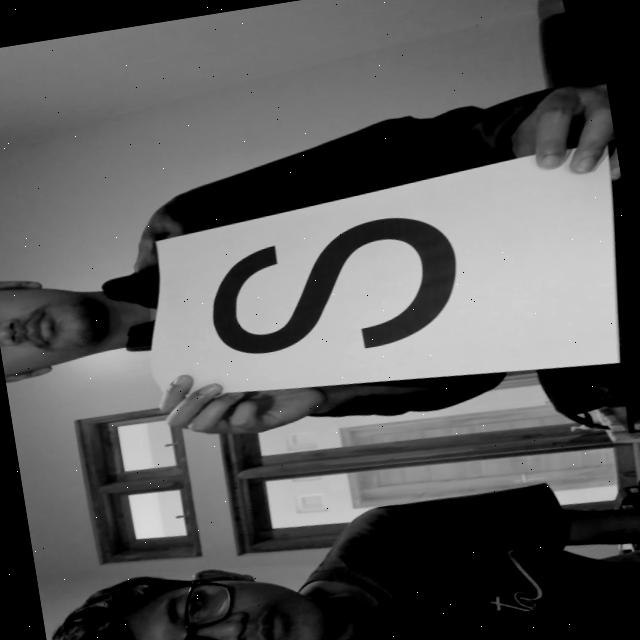s: (189, 189, 493, 384)
